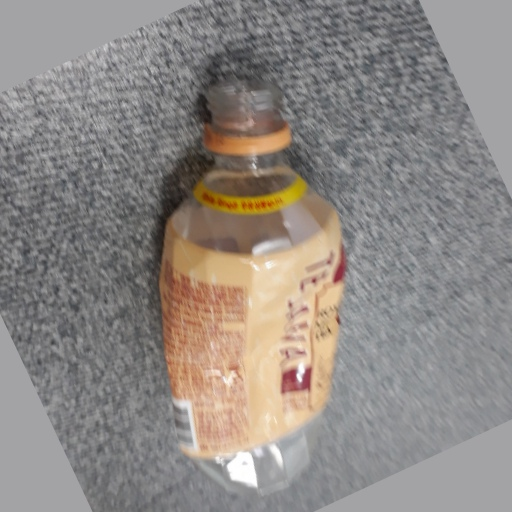Plastic_0: (155, 81, 346, 502)
